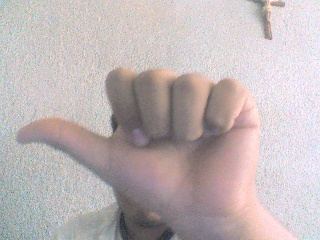Derecha: (17, 63, 273, 226)
